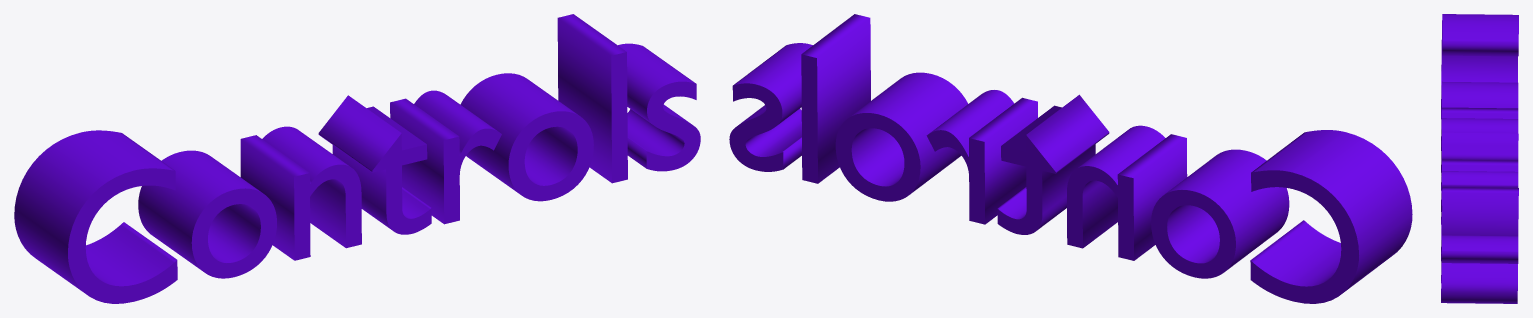
Rendered from controls.glb.
The picture shows the model from 3 angles, left to right: view 1: azimuth 30°, elevation 25°; view 2: azimuth 150°, elevation 25°; view 3: azimuth 270°, elevation 25°; orthographic projection. The views are drawn at different scales.
Parts seen in each view (by area): view 1: Text; view 2: Text; view 3: Text.
Part boxes in pixels (x1,y1,x2,y2): Text: [14, 14, 700, 303]; Text: [729, 14, 1412, 303]; Text: [1441, 14, 1518, 303].
Bounding box in the file's own units: 1.64 × 0.3251 × 0.2442.
